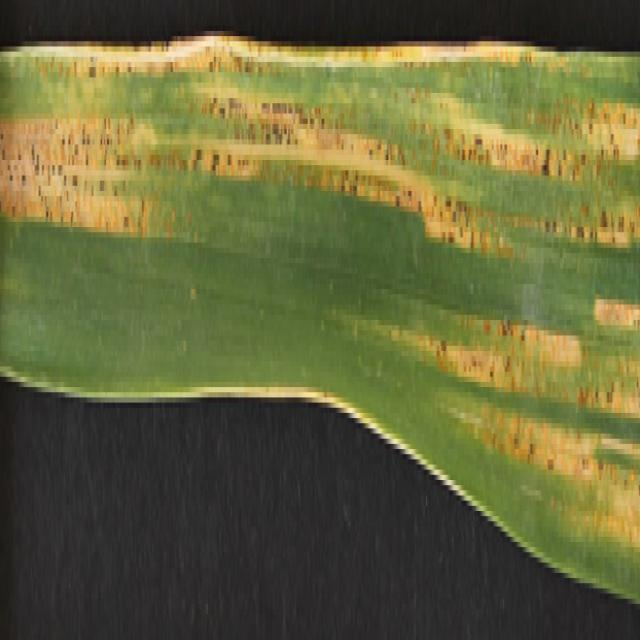leaf rust: (1, 36, 640, 547)
